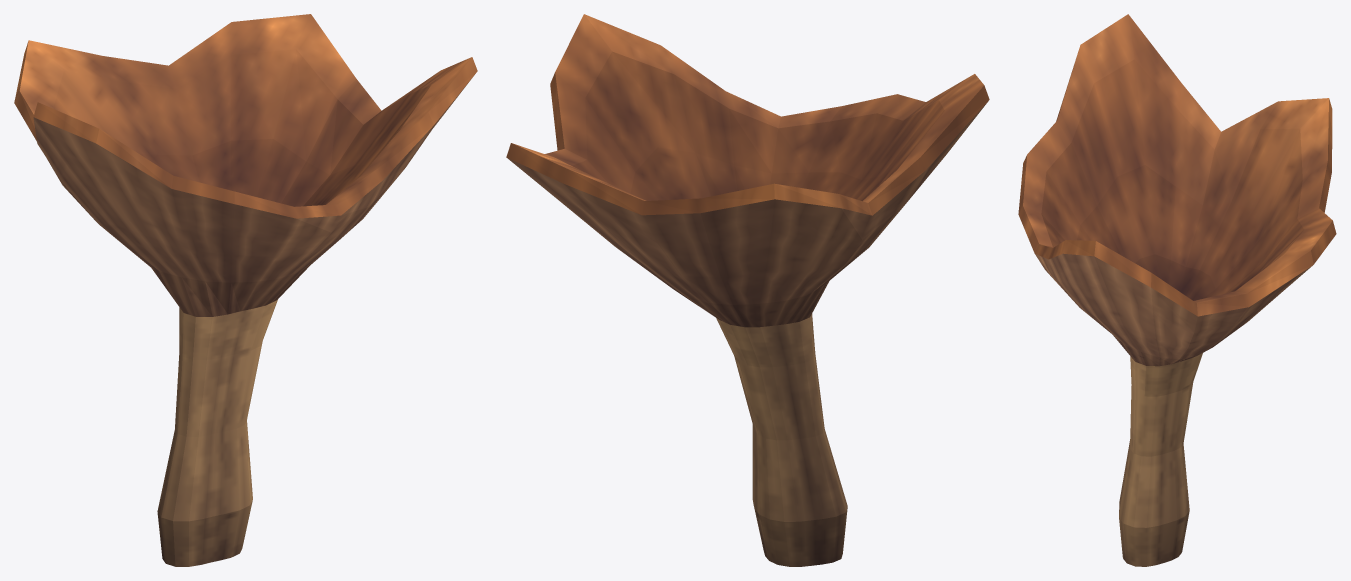
Rendered from Trombeta-de-Cobre-04-Borda-Fendida.glb.
The picture shows the model from 3 angles, left to right: view 1: azimuth 30°, elevation 25°; view 2: azimuth 150°, elevation 25°; view 3: azimuth 270°, elevation 25°; orthographic projection. The views are drawn at different scales.
Parts seen in each view (by area): view 1: Borda fendida; view 2: Borda fendida; view 3: Borda fendida.
Boxes of the visible parts, <box> form: Borda fendida: <box>14,14,477,566</box>; Borda fendida: <box>506,14,989,566</box>; Borda fendida: <box>1018,14,1336,566</box>.
Size of the model in its own units: 0.1827 by 0.2048 by 0.1286.
1 material, 1 textured.
